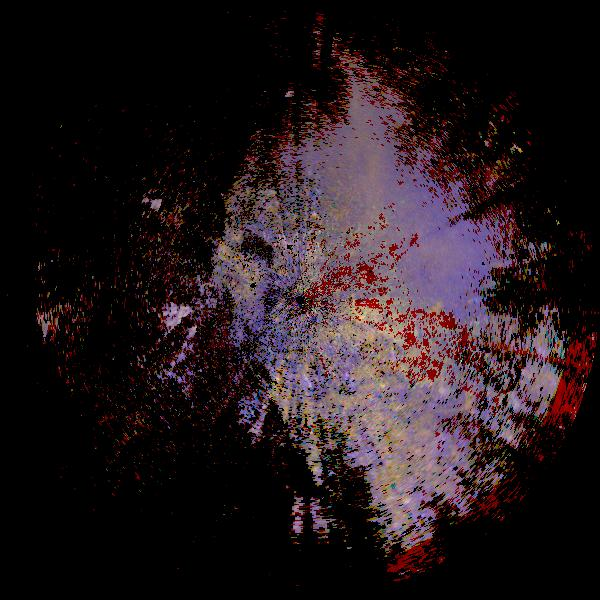roost: (279, 352, 327, 400)
